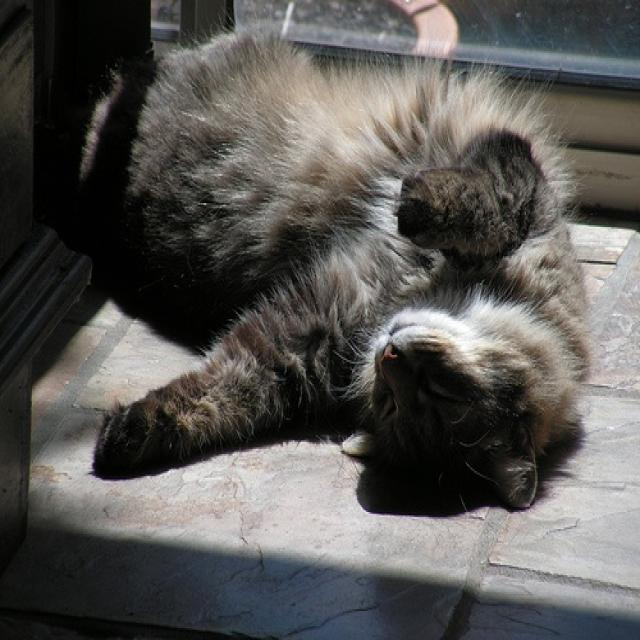cat: (92, 27, 597, 488)
